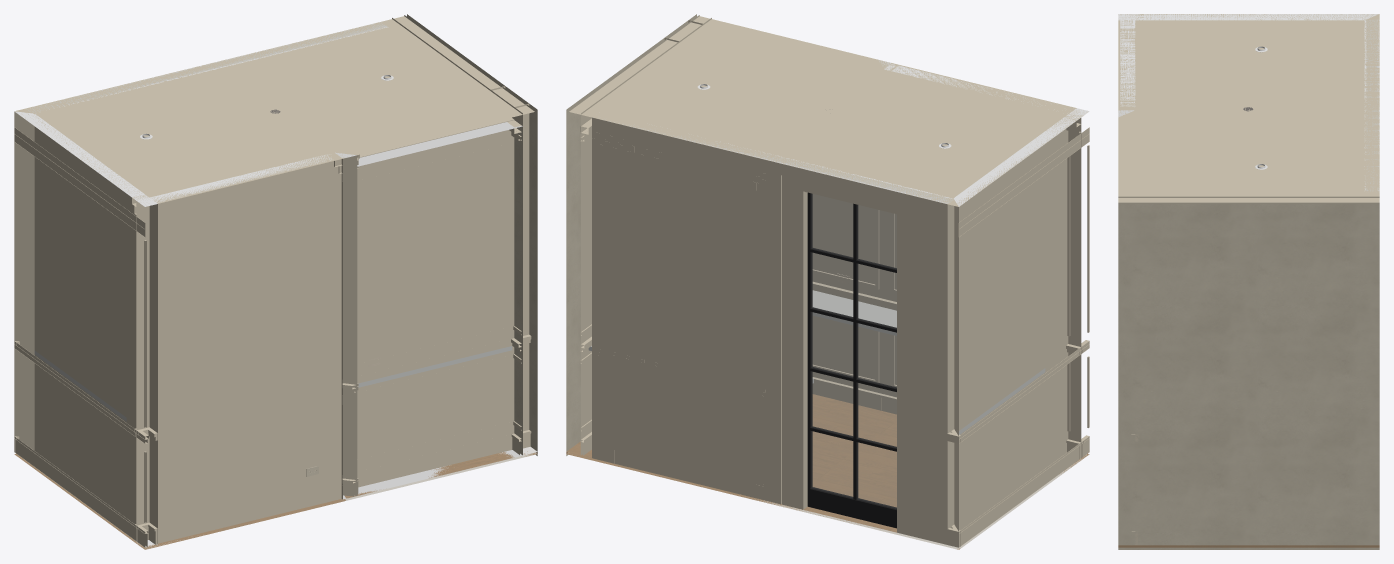
The model's file is pantry-7c983c1c965f.glb.
The picture shows the model from 3 angles, left to right: view 1: azimuth 30°, elevation 25°; view 2: azimuth 150°, elevation 25°; view 3: azimuth 270°, elevation 25°; orthographic projection.
Parts seen in each view (by area): view 1: pantry-e1ae12ec9cba52a2, pantry-e64cabe238f3e83a, pantry-2575515a05775d9e, pantry-5b6bbac285e58726, pantry-6a1144f4e43410bb, pantry-e462de76b61e99cf, pantry-1b1dac62f3b0f38e, pantry-ab25ce0be192bde7, pantry-2c29ddcb8551cb02, pantry-e54d813e60c9e7c4, pantry-3b0077416469e01b, pantry-4b4a529ae091588b (+10 smaller); view 2: pantry-bd4023b7987ad736, pantry-2575515a05775d9e, pantry-5b6bbac285e58726, pantry-391f310680cc5508, pantry-e64cabe238f3e83a, pantry-af97eba351c411ae, pantry-3b0077416469e01b, pantry-e1ae12ec9cba52a2, pantry-2c29ddcb8551cb02, pantry-e54d813e60c9e7c4, pantry-1fae004be5e077cf, pantry-af1041973fdfbb5e (+12 smaller); view 3: pantry-af97eba351c411ae, pantry-2575515a05775d9e, pantry-ab25ce0be192bde7, pantry-e462de76b61e99cf, pantry-4b4a529ae091588b, pantry-5b6bbac285e58726, pantry-e1ae12ec9cba52a2, pantry-ecf72e0057751250, pantry-710b1f455b9f0804, pantry-bd4023b7987ad736, pantry-3b0077416469e01b, pantry-76fec1e12e3db62a.
Part boxes in pixels (<box>): pantry-e1ae12ec9cba52a2: <box>149,154,341,543</box>; pantry-e64cabe238f3e83a: <box>342,122,522,495</box>; pantry-2575515a05775d9e: <box>15,15,534,203</box>; pantry-5b6bbac285e58726: <box>14,111,149,540</box>; pantry-6a1144f4e43410bb: <box>136,197,157,546</box>; pantry-e462de76b61e99cf: <box>514,104,537,455</box>; pantry-1b1dac62f3b0f38e: <box>135,434,512,524</box>; pantry-ab25ce0be192bde7: <box>490,86,529,431</box>; pantry-2c29ddcb8551cb02: <box>14,437,145,547</box>; pantry-e54d813e60c9e7c4: <box>14,127,145,236</box>; pantry-3b0077416469e01b: <box>14,451,537,549</box>; pantry-4b4a529ae091588b: <box>35,27,391,116</box>; pantry-bd4023b7987ad736: <box>592,117,954,544</box>; pantry-2575515a05775d9e: <box>569,15,1087,206</box>; pantry-5b6bbac285e58726: <box>953,114,1081,547</box>; pantry-391f310680cc5508: <box>811,194,896,508</box>; pantry-e64cabe238f3e83a: <box>812,194,883,393</box>; pantry-af97eba351c411ae: <box>566,37,679,455</box>; pantry-3b0077416469e01b: <box>566,394,1089,549</box>; pantry-e1ae12ec9cba52a2: <box>883,64,1067,397</box>; pantry-2c29ddcb8551cb02: <box>959,437,1089,547</box>; pantry-e54d813e60c9e7c4: <box>958,127,1089,236</box>; pantry-1fae004be5e077cf: <box>810,487,896,528</box>; pantry-af1041973fdfbb5e: <box>807,192,812,506</box>; pantry-af97eba351c411ae: <box>1183,196,1379,545</box>; pantry-2575515a05775d9e: <box>1118,14,1379,203</box>; pantry-ab25ce0be192bde7: <box>1135,196,1182,545</box>; pantry-e462de76b61e99cf: <box>1118,196,1135,545</box>; pantry-4b4a529ae091588b: <box>1355,20,1364,192</box>; pantry-5b6bbac285e58726: <box>1135,14,1378,20</box>; pantry-e1ae12ec9cba52a2: <box>1120,20,1135,106</box>; pantry-ecf72e0057751250: <box>1368,19,1376,192</box>; pantry-710b1f455b9f0804: <box>1135,14,1144,109</box>; pantry-bd4023b7987ad736: <box>1364,19,1379,191</box>; pantry-3b0077416469e01b: <box>1118,545,1379,547</box>; pantry-76fec1e12e3db62a: <box>1118,547,1379,549</box>.
Bounding box in the file's own units: 3.62 × 3.05 × 2.09.
Materials: 21 (4 with a texture image).
